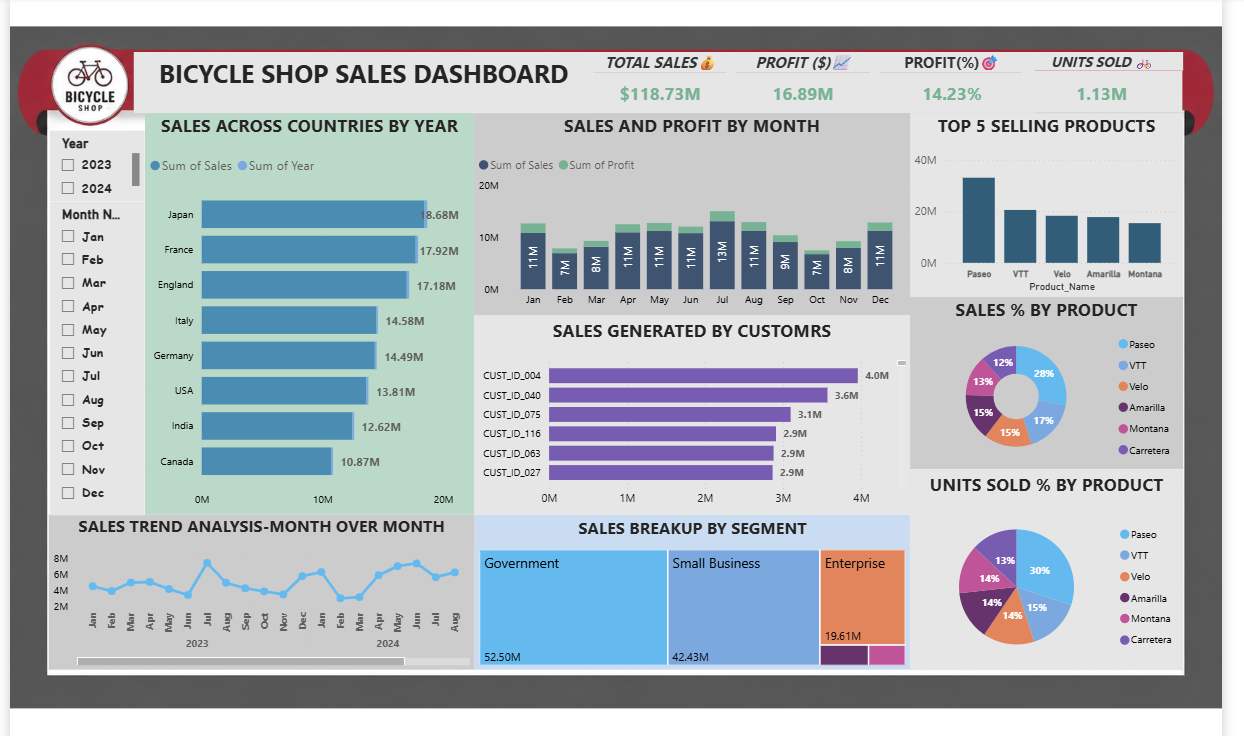

What the dashboard file says about the page in this screenshot:
{"tool":"powerbi","page":{"name":"Page 1","canvas":[1300,800],"ordinal":0},"visuals":[{"type":"cardVisual","title":"TOTAL SALES💰","fields":{"Data":["Sum(Sales Data.Sales)"]},"box":[616.7,58.3,162.5,66.7],"z":0},{"type":"cardVisual","title":"PROFIT ($)📈","fields":{"Data":["Sum(Sales Data.Profit)"]},"box":[768.1,58.3,165.3,66.7],"z":1000},{"type":"cardVisual","title":"UNITS SOLD 🚲","fields":{"Data":["Sum(Sales Data.Units Sold)"]},"box":[1084.7,58.3,173.6,66.7],"z":2000},{"type":"cardVisual","title":"PROFIT(%)🎯","fields":{"Data":["Sales Data.Profit (%)"]},"box":[922.2,58.3,176.4,66.7],"z":3000},{"type":"columnChart","title":"TOP 5 SELLING PRODUCTS","fields":{"Category":["Sales Data.Product_Name"],"Y":["Sum(Sales Data.Sales)"]},"box":[965.3,125,293.1,197.2],"z":4000},{"type":"donutChart","title":"SALES % BY PRODUCT","fields":{"Y":["Sum(Sales Data.Sales)"],"Category":["Sales Data.Product_Name"]},"box":[965.3,322.2,293.1,184.7],"z":5000},{"type":"pieChart","title":"UNITS SOLD % BY PRODUCT","fields":{"Category":["Sales Data.Product_Name"],"Y":["Sum(Sales Data.Units Sold)"]},"box":[965.3,506.9,293.1,215.3],"z":5001},{"type":"treemap","title":"SALES  BREAKUP BY SEGMENT","fields":{"Group":["Sales Data.Segment"],"Values":["Sum(Sales Data.Sales)"]},"box":[498.6,555.6,466.7,166.7],"z":5002},{"type":"lineChart","title":"SALES TREND ANALYSIS-MONTH OVER MONTH","fields":{"Y":["Sum(Sales Data.Sales)"],"Category":["Sales Data.Date.Variation.Date Hierarchy.Year","Sales Data.Month Name"]},"box":[41.7,555.6,456.9,166.7],"z":5003},{"type":"slicer","fields":{"Values":["Sales Data.Year"]},"box":[43.1,143.1,101.4,76.4],"z":5004},{"type":"slicer","fields":{"Values":["Sales Data.Month Name"]},"box":[43.1,219.4,101.4,336.1],"z":5005},{"type":"clusteredBarChart","title":"SALES GENERATED BY CUSTOMRS","fields":{"Y":["Sum(Sales Data.Sales)"],"Category":["Sales Data.Customer_ID"]},"box":[497.2,341.7,468.1,213.9],"z":5006},{"type":"columnChart","title":"SALES AND PROFIT BY MONTH","fields":{"Y":["Sum(Sales Data.Sales)","Sum(Sales Data.Profit)"],"Category":["Sales Data.Month Name"]},"box":[497.2,125,468.1,216.7],"z":5007},{"type":"barChart","title":"SALES ACROSS COUNTRIES BY YEAR ","fields":{"Y":["Sum(Sales Data.Sales)","Sum(Sales Data.Year)"],"Category":["Sales Data.Country"]},"box":[144.4,125,352.8,430.6],"z":5008},{"type":"textbox","box":[133.3,58.3,493.1,65.3],"z":5009}]}

Visuals, with their boxes on the page's 1300x800 design canvas (x1, y1, x2, y2). These are canvas units, not pixel positions in the 1244x736 screenshot, which may show the page scaled, cropped or inside an application window:
"TOTAL SALES💰" cardVisual: detection(617, 58, 779, 125)
"PROFIT ($)📈" cardVisual: detection(768, 58, 933, 125)
"UNITS SOLD 🚲" cardVisual: detection(1085, 58, 1258, 125)
"PROFIT(%)🎯" cardVisual: detection(922, 58, 1099, 125)
"TOP 5 SELLING PRODUCTS" columnChart: detection(965, 125, 1258, 322)
"SALES % BY PRODUCT" donutChart: detection(965, 322, 1258, 507)
"UNITS SOLD % BY PRODUCT" pieChart: detection(965, 507, 1258, 722)
"SALES  BREAKUP BY SEGMENT" treemap: detection(499, 556, 965, 722)
"SALES TREND ANALYSIS-MONTH OVER MONTH" lineChart: detection(42, 556, 499, 722)
slicer - Sales Data.Year: detection(43, 143, 144, 220)
slicer - Sales Data.Month Name: detection(43, 219, 144, 556)
"SALES GENERATED BY CUSTOMRS" clusteredBarChart: detection(497, 342, 965, 556)
"SALES AND PROFIT BY MONTH" columnChart: detection(497, 125, 965, 342)
"SALES ACROSS COUNTRIES BY YEAR " barChart: detection(144, 125, 497, 556)
textbox: detection(133, 58, 626, 124)
